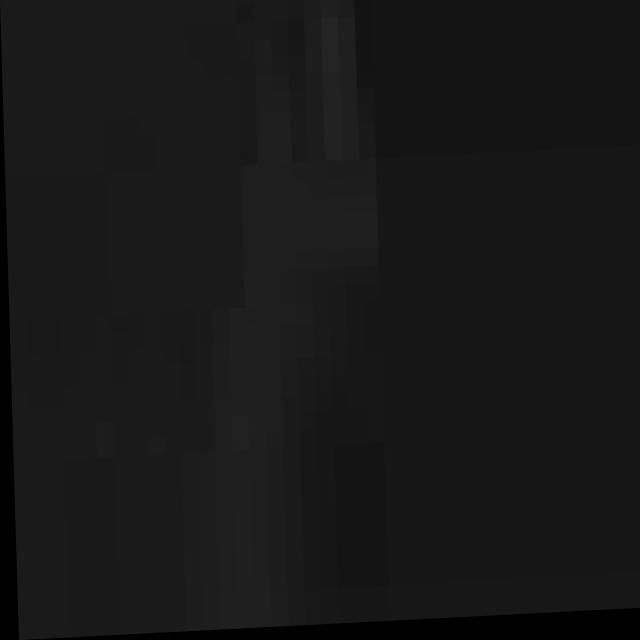fracture: (5, 2, 640, 631)
